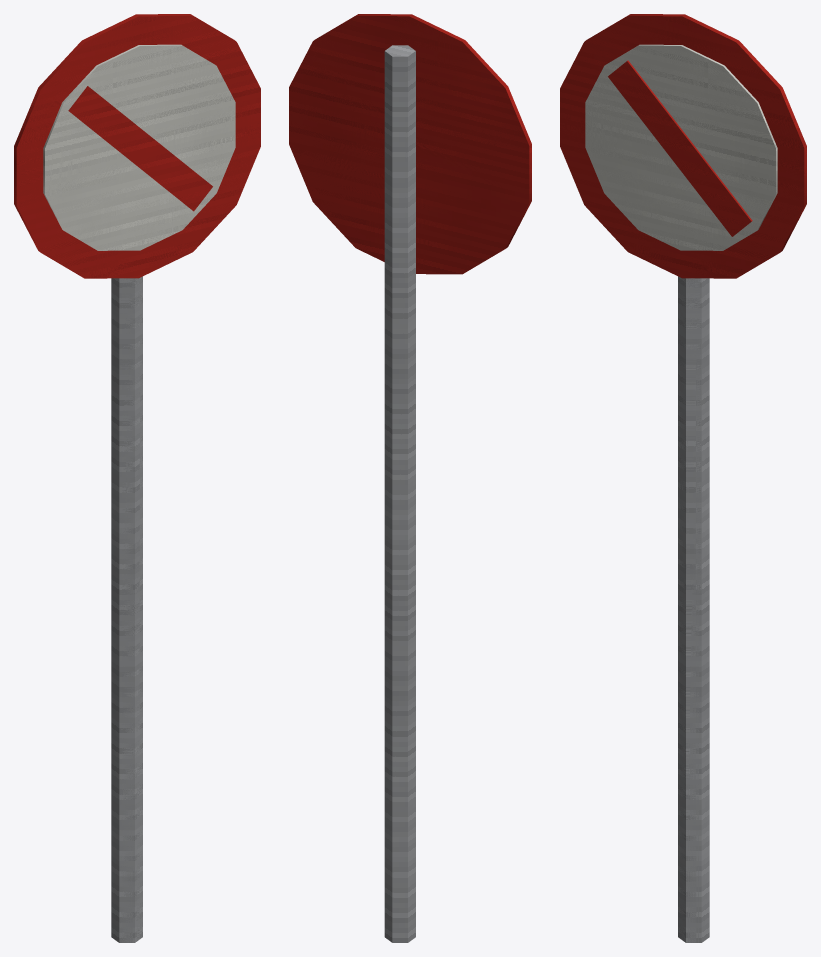
Rendered from placa_proibido.glb.
3 views of the same model, side by side, from view 1: azimuth 30°, elevation 25°; view 2: azimuth 150°, elevation 25°; view 3: azimuth 330°, elevation 25° (orthographic).
Parts seen in each view (by area): view 1: Inteiro, Peca_01, Peca_00; view 2: Inteiro, Peca_01; view 3: Inteiro, Peca_01, Peca_00.
Boxes of the visible parts, bbox=[...] form: Inteiro: bbox=[14, 16, 260, 942]; Peca_01: bbox=[14, 14, 260, 278]; Peca_00: bbox=[119, 277, 142, 942]; Inteiro: bbox=[289, 16, 531, 942]; Peca_01: bbox=[289, 14, 531, 273]; Inteiro: bbox=[560, 16, 806, 942]; Peca_01: bbox=[560, 14, 806, 278]; Peca_00: bbox=[678, 278, 701, 942].
Size of the model in its own units: 0.624 by 2.27 by 0.098.
1 material, 1 textured.
